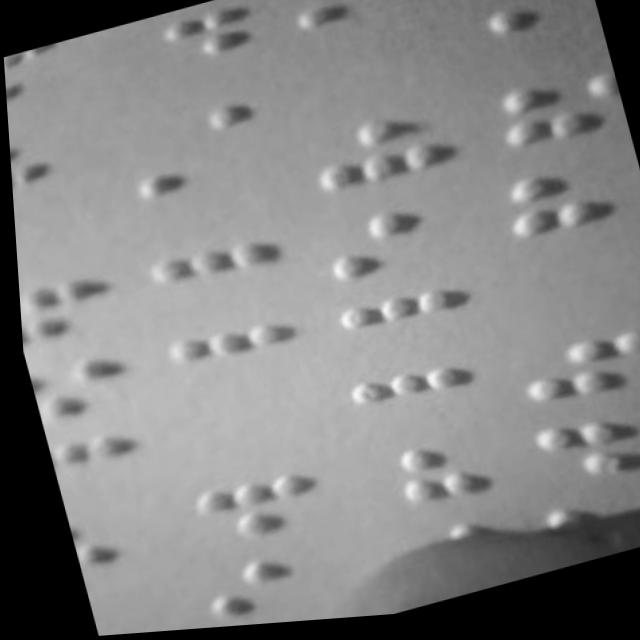braiile: (303, 118, 463, 232), (310, 196, 469, 309), (470, 75, 631, 186), (487, 161, 640, 273), (182, 459, 333, 564), (326, 281, 473, 388), (334, 356, 481, 463), (505, 322, 640, 438), (515, 406, 640, 527), (193, 537, 350, 630), (158, 312, 294, 417), (465, 0, 609, 96), (141, 229, 279, 328), (128, 144, 263, 242), (282, 0, 442, 71), (20, 339, 127, 430), (7, 123, 105, 219), (14, 263, 113, 354), (40, 420, 139, 505), (3, 58, 94, 150), (58, 493, 153, 577)
